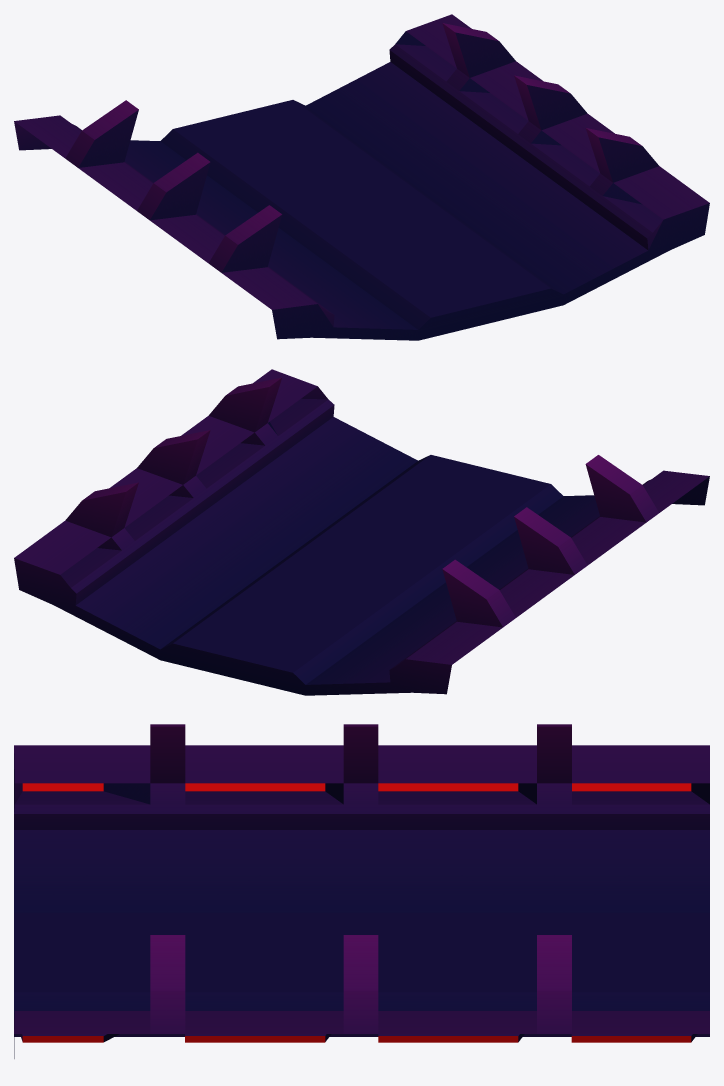
The model's file is inner_tonnel_004.fbx.
3 renders of one model, top to bottom at view 1: azimuth 30°, elevation 25°; view 2: azimuth 150°, elevation 25°; view 3: azimuth 270°, elevation 25°, orthographic. The views are drawn at different scales.
Visible parts, largest first — view 1: inner_tonnel_004; view 2: inner_tonnel_004; view 3: inner_tonnel_004.
Part boxes in pixels (x1,y1,x2,y2): inner_tonnel_004: (14, 14, 709, 340); inner_tonnel_004: (14, 369, 709, 695); inner_tonnel_004: (14, 724, 709, 1058).
Bounding box in the file's own units: 9.06 × 2.18 × 9.24.
